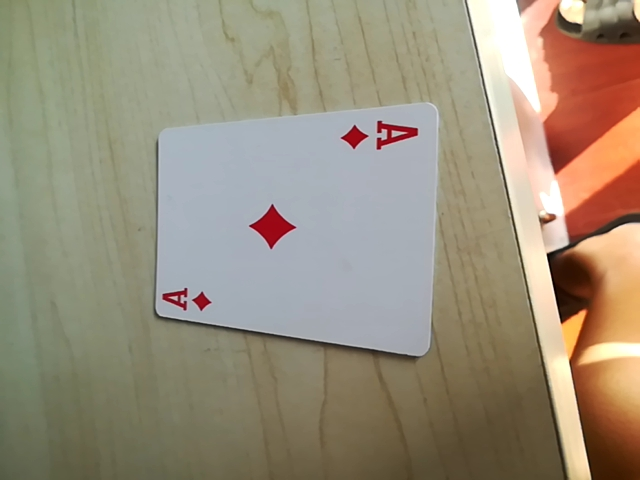fk a: (338, 116, 418, 157), (153, 283, 216, 319)
